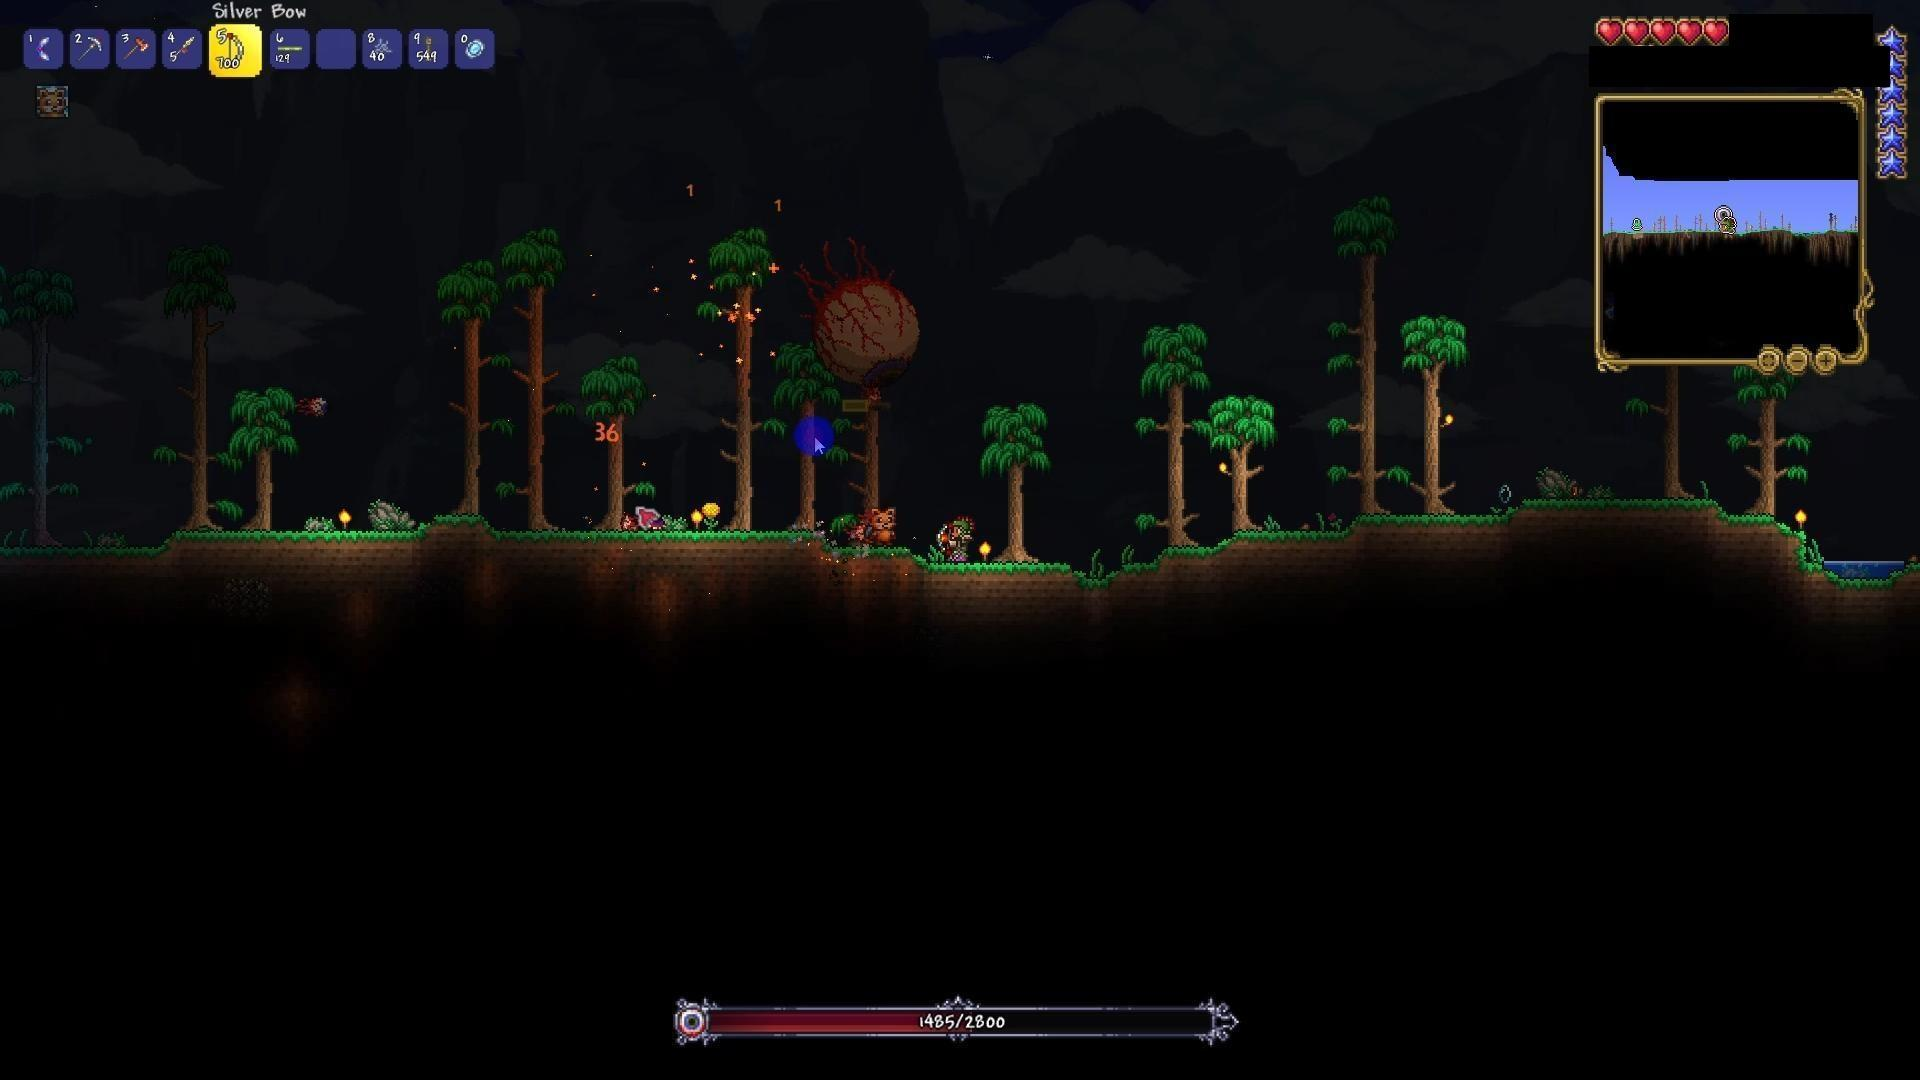dirt: (510, 524, 828, 575), (161, 525, 429, 575), (1162, 526, 1337, 579), (1328, 506, 1509, 554), (1507, 495, 1727, 529), (1055, 541, 1170, 593), (0, 538, 156, 568), (425, 510, 513, 560), (825, 537, 928, 578), (924, 556, 1065, 585)
heart: (1702, 17, 1733, 51), (1593, 16, 1626, 46), (1676, 15, 1704, 50), (1650, 16, 1676, 49), (1625, 15, 1651, 44)
liquid: (1815, 543, 1902, 575)
tree: (1, 278, 94, 538), (712, 215, 778, 560), (1317, 187, 1385, 500), (440, 228, 506, 526), (1131, 306, 1200, 549), (165, 228, 215, 541), (1408, 309, 1480, 518), (513, 232, 564, 495), (587, 359, 655, 529), (222, 367, 286, 541), (986, 393, 1050, 564), (1729, 368, 1796, 526), (1212, 389, 1282, 534)
